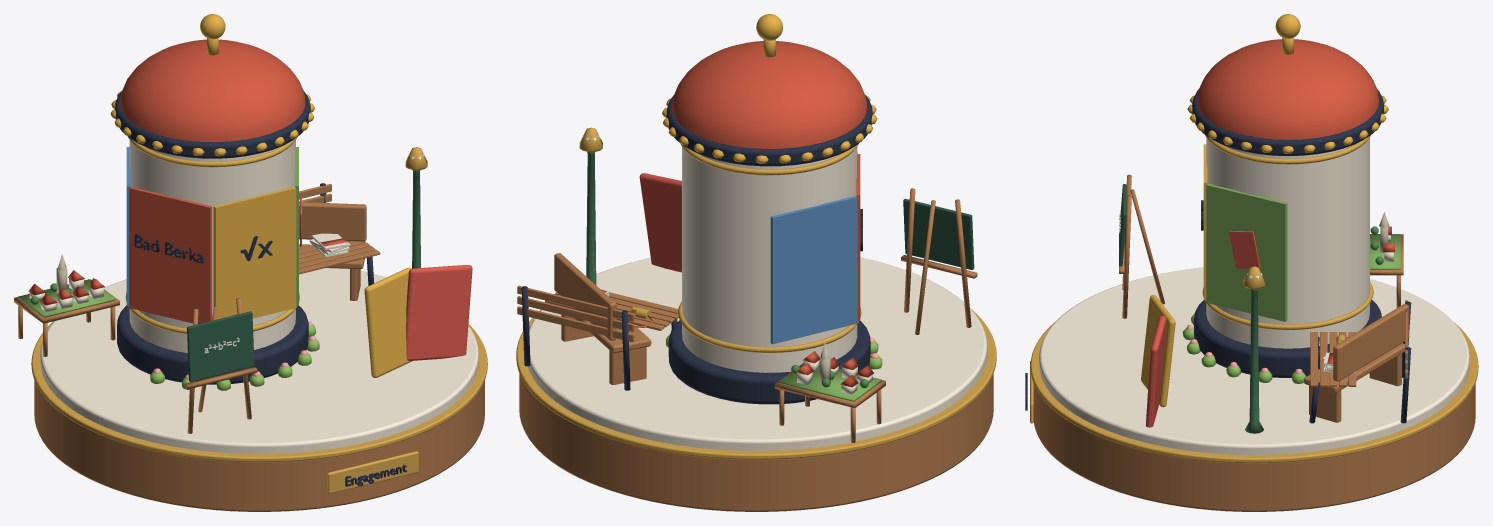
File: engagement.glb
3 views of the same model, side by side, from view 1: azimuth 30°, elevation 25°; view 2: azimuth 150°, elevation 25°; view 3: azimuth 270°, elevation 25° (orthographic). The views are drawn at different scales.
Visible parts, largest first — view 1: Engagement_Deck, Engagement, Engagement_Dome, Engagement_Paper0, Engagement_Paper2, Engagement_Column, Engagement_BigCard1, Engagement_Trim, Engagement_Foot, Engagement_BigCard0, Engagement_Board, Engagement_Crown (+15 smaller); view 2: Engagement_Deck, Engagement, Engagement_Column, Engagement_Dome, Engagement_Paper3, Engagement_Trim, Engagement_Foot, Engagement_Bench, Engagement_XBenchSlats, Engagement_BigCard1, Engagement_Crown, Engagement_Board (+10 smaller); view 3: Engagement_Deck, Engagement, Engagement_Column, Engagement_Dome, Engagement_Paper1, Engagement_Trim, Engagement_Bench, Engagement_Foot, Engagement_Crown, Engagement_XColumnBands, Engagement_BigCard0, Engagement_XBenchSlats (+11 smaller).
Boxes of the visible parts, <box> form: Engagement_Deck: <box>40,268,478,453</box>; Engagement: <box>34,380,484,511</box>; Engagement_Dome: <box>120,39,305,142</box>; Engagement_Paper0: <box>213,187,296,319</box>; Engagement_Paper2: <box>129,187,211,323</box>; Engagement_Column: <box>129,140,295,352</box>; Engagement_BigCard1: <box>406,265,472,360</box>; Engagement_Trim: <box>31,321,487,462</box>; Engagement_Foot: <box>117,305,308,384</box>; Engagement_BigCard0: <box>364,267,412,377</box>; Engagement_Board: <box>187,311,254,381</box>; Engagement_Crown: <box>115,90,310,158</box>; Engagement_Deck: <box>527,257,987,450</box>; Engagement: <box>519,374,993,511</box>; Engagement_Column: <box>682,147,857,372</box>; Engagement_Dome: <box>672,41,867,148</box>; Engagement_Paper3: <box>770,196,857,344</box>; Engagement_Trim: <box>516,308,996,459</box>; Engagement_Foot: <box>668,320,870,404</box>; Engagement_Bench: <box>554,253,651,384</box>; Engagement_XBenchSlats: <box>517,285,678,342</box>; Engagement_BigCard1: <box>639,173,681,272</box>; Engagement_Crown: <box>666,95,872,166</box>; Engagement_Board: <box>903,198,974,269</box>; Engagement_Deck: <box>1039,267,1469,454</box>; Engagement: <box>1033,383,1475,511</box>; Engagement_Column: <box>1206,138,1369,348</box>; Engagement_Dome: <box>1197,39,1379,139</box>; Engagement_Paper1: <box>1206,183,1287,321</box>; Engagement_Trim: <box>1030,322,1478,463</box>; Engagement_Bench: <box>1304,304,1409,422</box>; Engagement_Foot: <box>1194,300,1381,377</box>; Engagement_Crown: <box>1192,90,1384,155</box>; Engagement_XColumnBands: <box>1202,135,1373,329</box>; Engagement_BigCard0: <box>1141,295,1175,407</box>; Engagement_XBenchSlats: <box>1310,300,1407,386</box>.
Size of the model in its own units: 4.66 by 4.48 by 4.71.
